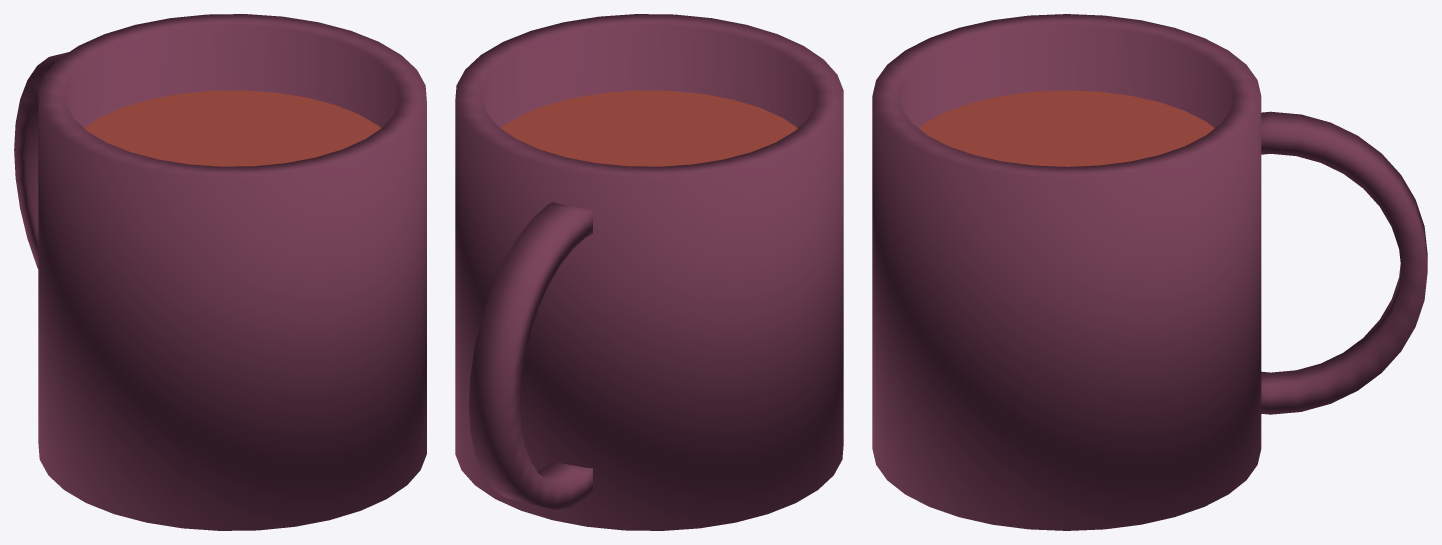
File: kawa.gltf
3 renders of one model, left to right at view 1: azimuth 30°, elevation 25°; view 2: azimuth 150°, elevation 25°; view 3: azimuth 270°, elevation 25°, orthographic.
Parts seen in each view (by area): view 1: Cylinder, Circle.001, Circle; view 2: Cylinder, Circle, Circle.001; view 3: Cylinder, Circle, Circle.001.
Part boxes in pixels (x1,y1,x2,y2): Cylinder: (38, 14, 426, 530); Circle.001: (84, 90, 380, 166); Circle: (14, 52, 68, 268); Cylinder: (455, 14, 843, 530); Circle: (469, 202, 592, 509); Circle.001: (501, 90, 797, 166); Cylinder: (872, 14, 1261, 530); Circle: (1261, 111, 1427, 414); Circle.001: (919, 90, 1214, 166).
Size of the model in its own units: 2 by 2 by 2.85.
Materials: 1 (1 with a texture image).
